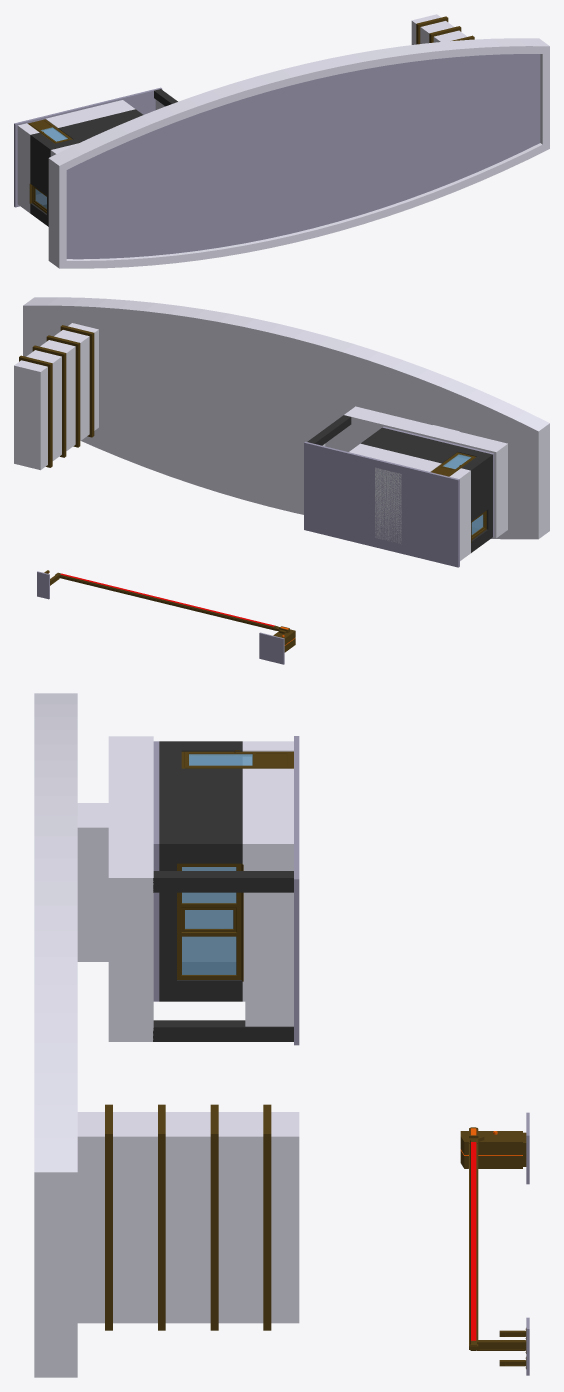
File: Checkpoint 2.fbx
The picture shows the model from 3 angles, top to bottom: view 1: azimuth 30°, elevation 25°; view 2: azimuth 150°, elevation 25°; view 3: azimuth 270°, elevation 25°; orthographic projection. The views are drawn at different scales.
Parts seen in each view (by area): view 1: Pena_003; view 2: Pena_003, Pena_004; view 3: Pena_003, Pena_004.
Part boxes in pixels (<box>): Pena_003: <box>14,14,549,268</box>; Pena_003: <box>14,297,549,567</box>; Pena_004: <box>37,570,295,664</box>; Pena_003: <box>34,693,299,1377</box>; Pena_004: <box>460,1112,529,1375</box>.
Size of the model in its own units: 828 by 326 by 362.
